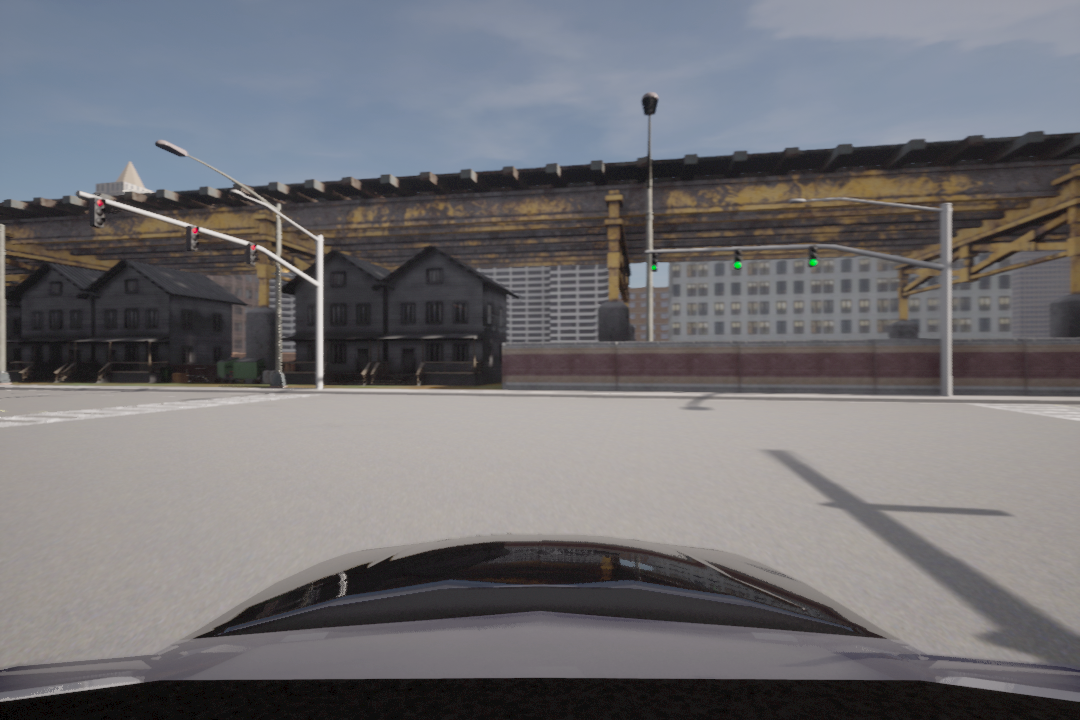TrafficLight: (84, 195, 107, 233), (184, 220, 200, 251), (731, 246, 746, 275), (805, 243, 820, 271), (245, 243, 261, 267), (648, 251, 659, 274)
